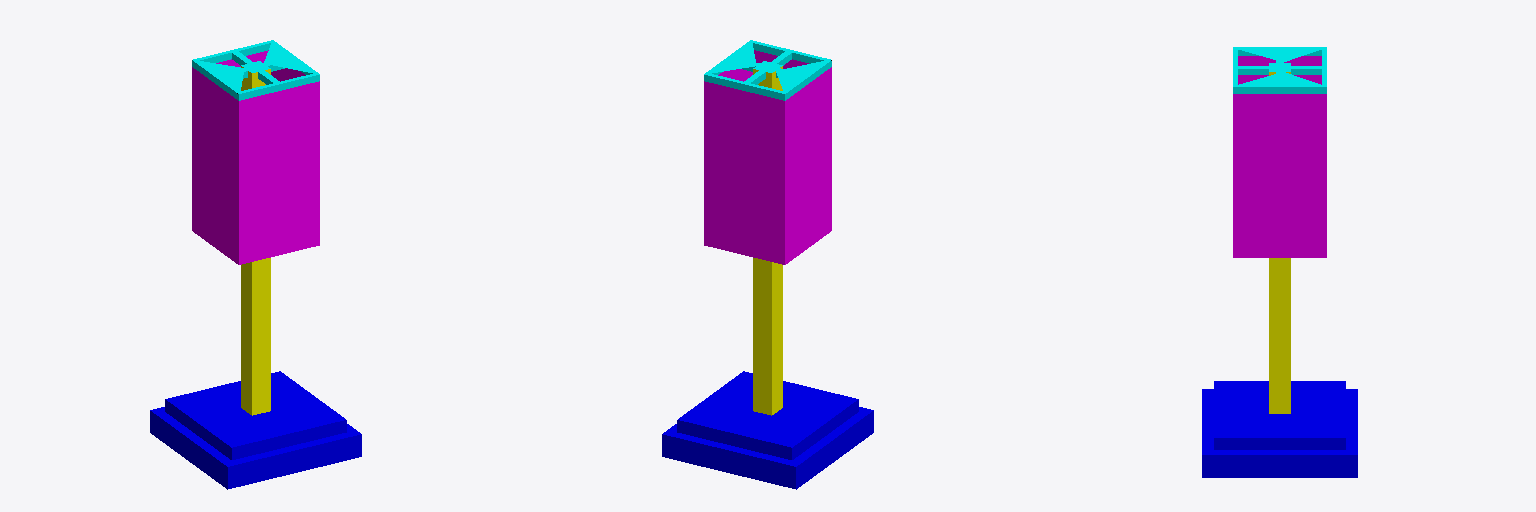
The model's file is LampSPExportFinal.obj.
3 renders of one model, left to right at view 1: azimuth 30°, elevation 25°; view 2: azimuth 150°, elevation 25°; view 3: azimuth 270°, elevation 25°, orthographic.
Visible parts, largest first — view 1: pCube3; view 2: pCube3; view 3: pCube3.
Part boxes in pixels (x1,y1,x2,y2): pCube3: (150,40,361,489); pCube3: (662,40,873,489); pCube3: (1202,47,1357,477).
Size of the model in its own units: 3.7 by 9.92 by 3.7.